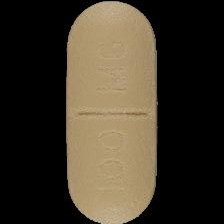49999-375: (0, 0, 224, 224)
